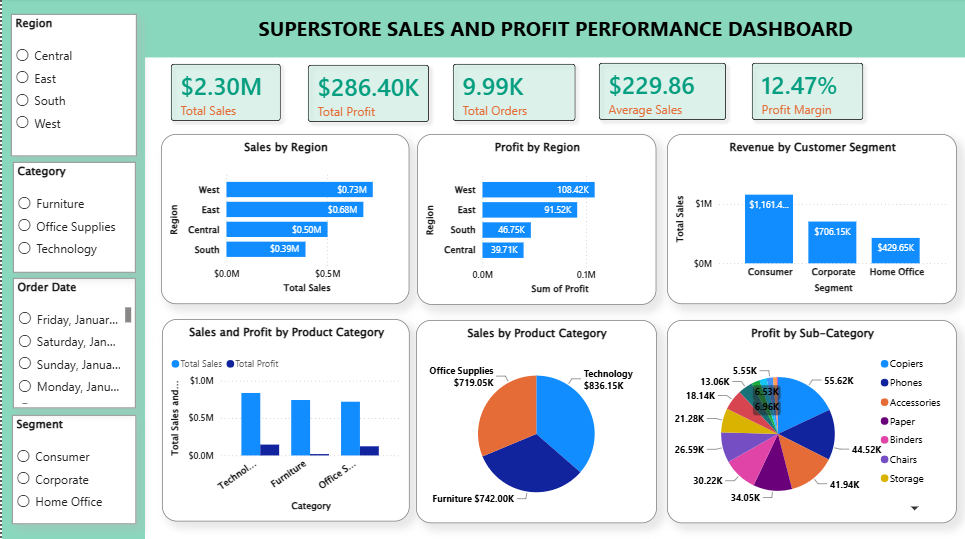

The dashboard page shown, as its layout file describes it:
{"tool":"powerbi","page":{"name":"Dashboard 1","canvas":[1280,720],"ordinal":0},"visuals":[{"type":"shape","box":[0,0,190,720],"z":0},{"type":"cardVisual","fields":{"Data":["Date Table.Total Sales"]},"box":[195.5,59.1,204.5,134.8],"z":1000},{"type":"cardVisual","fields":{"Data":["Date Table.Total Profit"]},"box":[377.9,59.4,219.5,134.6],"z":2000},{"type":"cardVisual","fields":{"Data":["Date Table.Total Orders"]},"box":[569.7,59.1,221.2,134.8],"z":3000},{"type":"cardVisual","fields":{"Data":["Date Table.Average Sales"]},"box":[763.6,57.6,227.3,134.8],"z":4000},{"type":"cardVisual","fields":{"Data":["Date Table.Profit Margin"]},"box":[966.7,57.6,206.1,134.8],"z":5000},{"type":"clusteredBarChart","title":"Sales by Region","fields":{"Category":["Sample - Superstore.Region"],"Y":["Date Table.Total Sales"]},"box":[211.6,180.3,330.3,225.8],"z":6000},{"type":"clusteredBarChart","title":"Profit by Region","fields":{"Category":["Sample - Superstore.Region"],"Y":["Sum(Sample - Superstore.Profit)"]},"box":[551,180.3,318.2,227.3],"z":7000},{"type":"columnChart","title":"Revenue by Customer Segment","fields":{"Category":["Sample - Superstore.Segment"],"Y":["Date Table.Total Sales"]},"box":[882.8,180.3,384.8,225.8],"z":8000},{"type":"clusteredColumnChart","title":"Sales and Profit by Product Category","fields":{"Category":["Sample - Superstore.Category"],"Y":["Date Table.Total Sales","Date Table.Total Profit"]},"box":[212.6,426.9,329.3,269.3],"z":9000},{"type":"pieChart","title":"Sales by Product Category","fields":{"Category":["Sample - Superstore.Category"],"Y":["Date Table.Total Sales"]},"box":[549.5,427.3,319.7,269.7],"z":10000},{"type":"listSlicer","title":"Segment","fields":{"Values":["Sample - Superstore.Segment"]},"box":[13.3,554.2,165,145],"z":11000},{"type":"listSlicer","title":"Order Date","fields":{"Values":["Sample - Superstore.Order Date"]},"box":[15,372.5,163.3,173.3],"z":12000},{"type":"listSlicer","title":"Region","fields":{"Values":["Sample - Superstore.Region"]},"box":[11.7,20.8,166.8,188.8],"z":13000},{"type":"listSlicer","title":"Category","fields":{"Values":["Sample - Superstore.Category"]},"box":[15,217.5,163.3,146.7],"z":14000},{"type":"pieChart","title":"Profit by Sub-Category","fields":{"Category":["Sample - Superstore.Sub-Category"],"Y":["Sum(Sample - Superstore.Profit)"]},"box":[882.8,427.3,384.8,269.7],"z":15000},{"type":"textbox","box":[189.4,0,1090.9,78.8],"z":16001}]}

Visuals, with their boxes in screenshot pixels (x1, y1, x2, y2), scaled from the page's 1280x720 canvas onto the 965x539 screenshot:
shape: locate(0, 0, 143, 538)
cardVisual - Date Table.Total Sales: locate(147, 44, 302, 145)
cardVisual - Date Table.Total Profit: locate(285, 44, 450, 145)
cardVisual - Date Table.Total Orders: locate(430, 44, 596, 145)
cardVisual - Date Table.Average Sales: locate(576, 43, 747, 144)
cardVisual - Date Table.Profit Margin: locate(729, 43, 884, 144)
"Sales by Region" clusteredBarChart: locate(160, 135, 409, 304)
"Profit by Region" clusteredBarChart: locate(415, 135, 655, 305)
"Revenue by Customer Segment" columnChart: locate(666, 135, 956, 304)
"Sales and Profit by Product Category" clusteredColumnChart: locate(160, 320, 409, 521)
"Sales by Product Category" pieChart: locate(414, 320, 655, 522)
"Segment" listSlicer: locate(10, 415, 134, 523)
"Order Date" listSlicer: locate(11, 279, 134, 409)
"Region" listSlicer: locate(9, 16, 135, 157)
"Category" listSlicer: locate(11, 163, 134, 273)
"Profit by Sub-Category" pieChart: locate(666, 320, 956, 522)
textbox: locate(143, 0, 964, 59)
